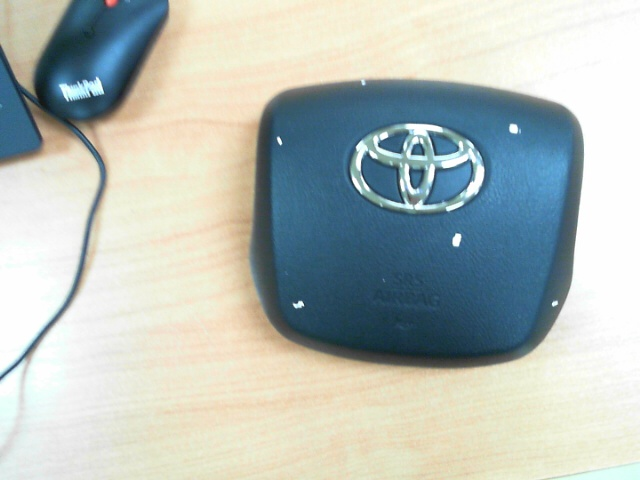Airbag: (508, 122, 522, 136), (291, 299, 306, 310), (452, 232, 461, 248), (276, 135, 283, 146), (360, 80, 367, 87), (551, 300, 558, 307)
